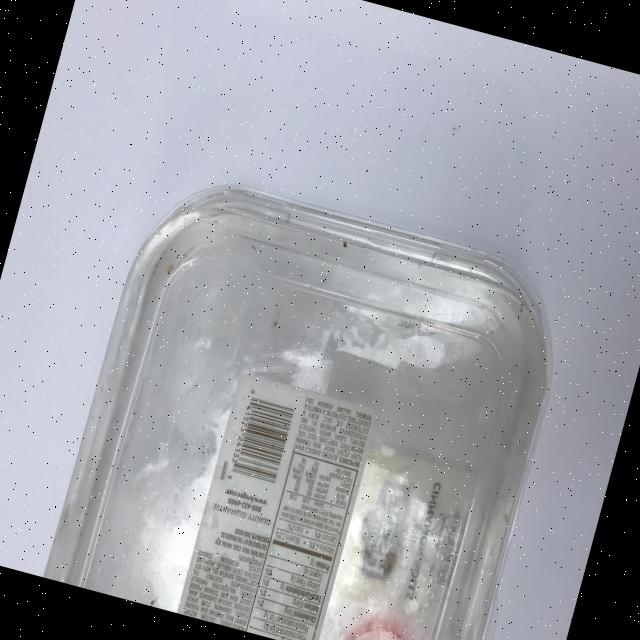plastic: (43, 161, 583, 640)
